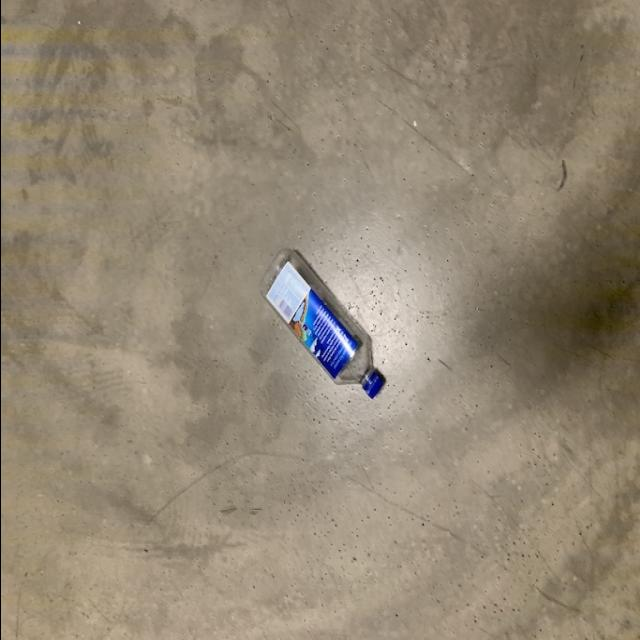litter: (258, 242, 384, 394)
